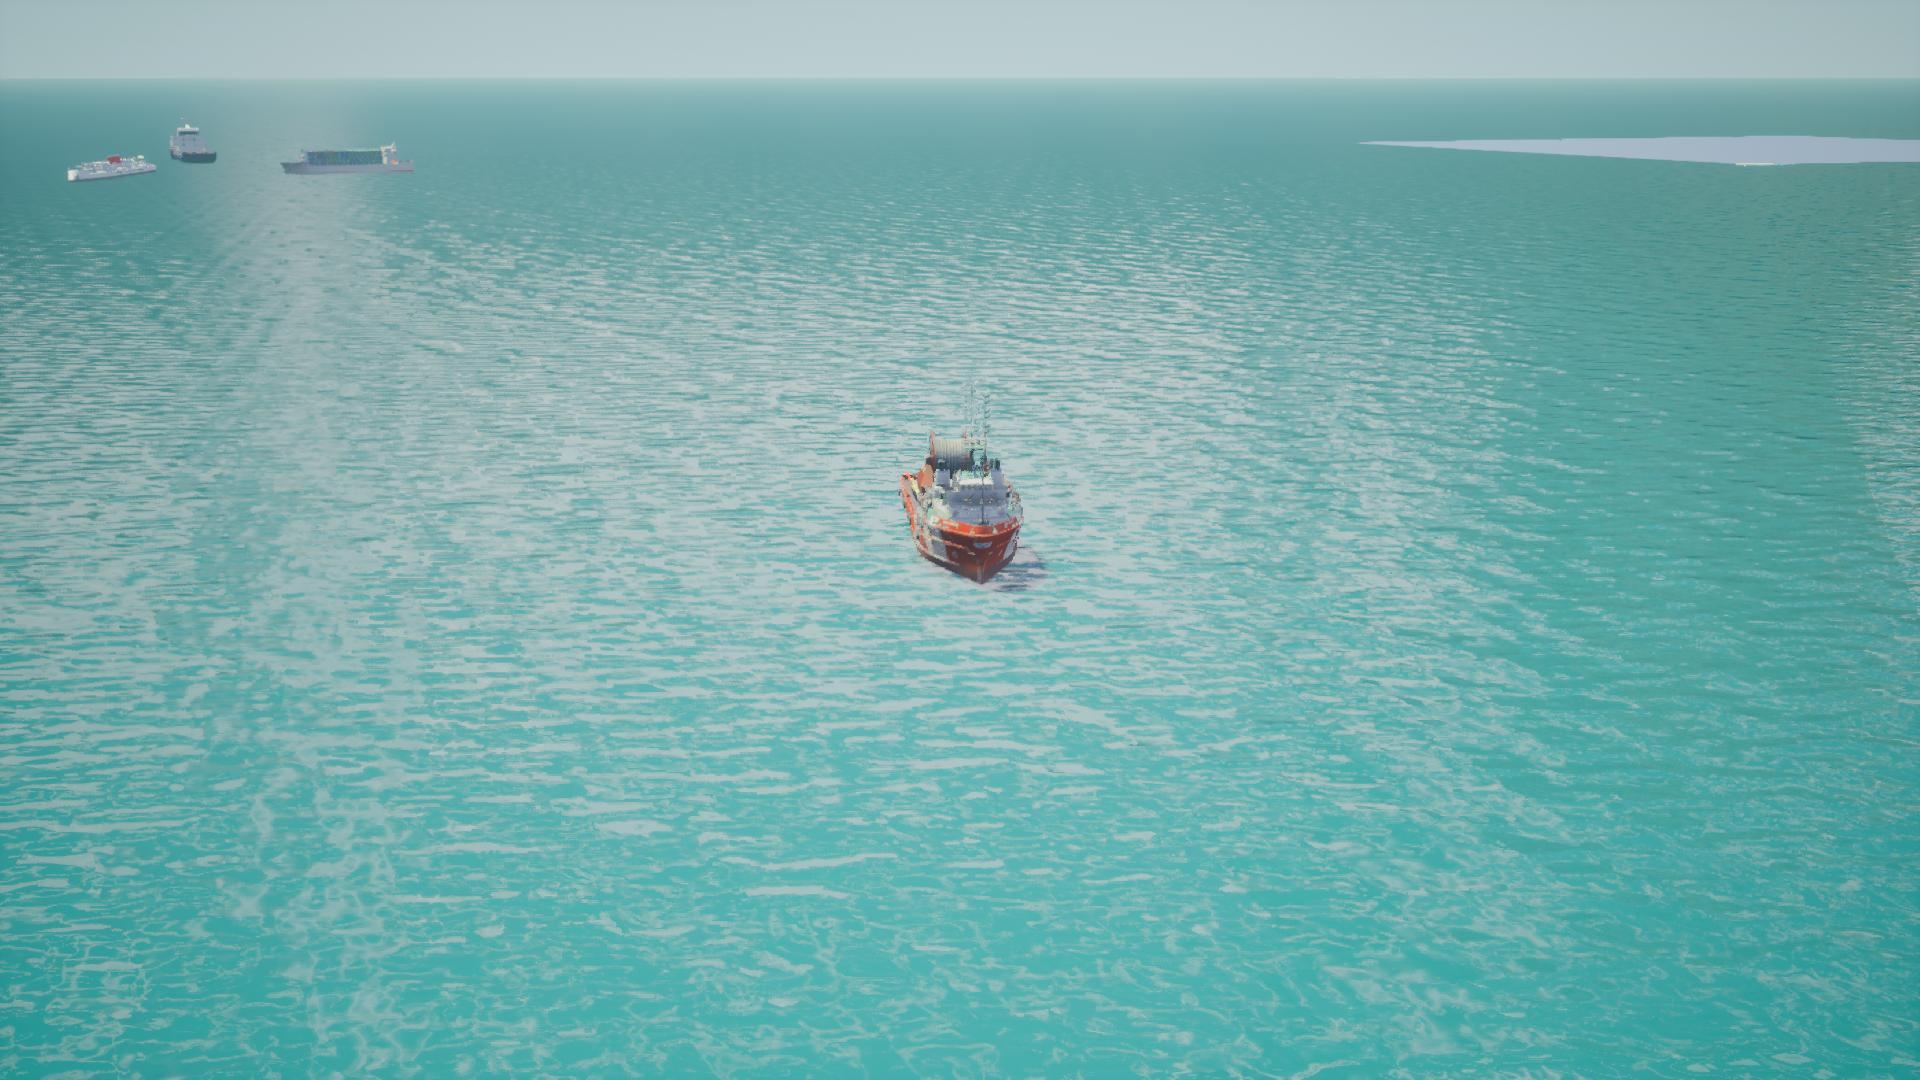Tug Boat: (905, 430, 1025, 585)
